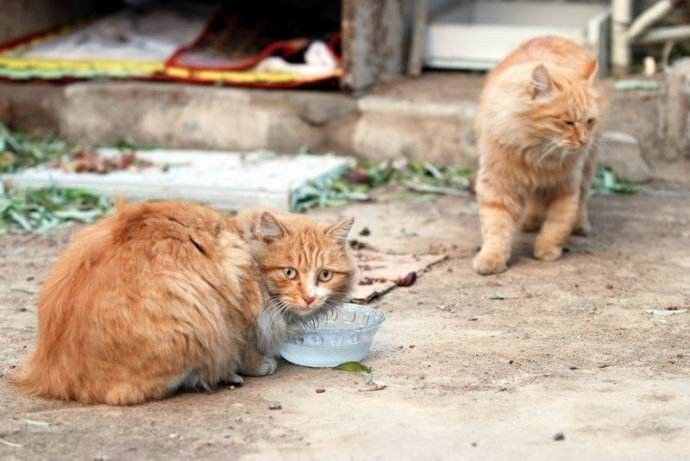cat: (5, 198, 359, 403), (473, 35, 597, 276)
